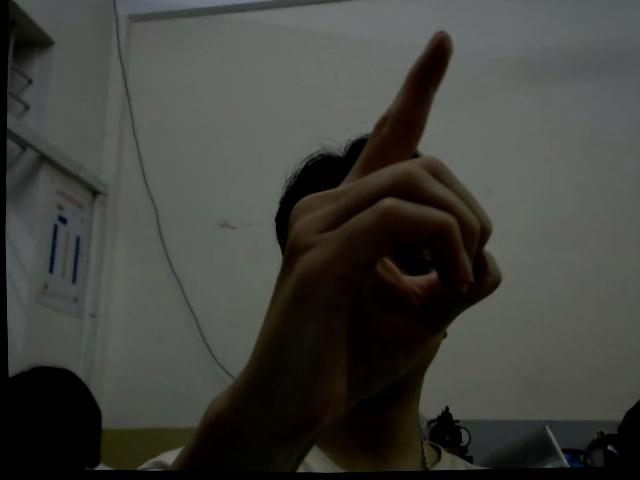D: (253, 22, 515, 423)
